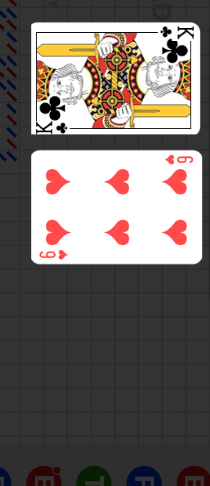6H: (38, 248, 70, 261)
KC: (155, 25, 195, 43)
